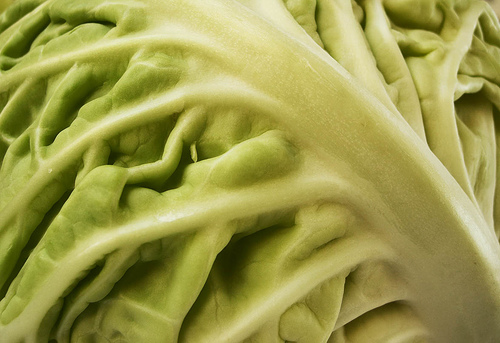cabbage: (0, 0, 499, 341)
